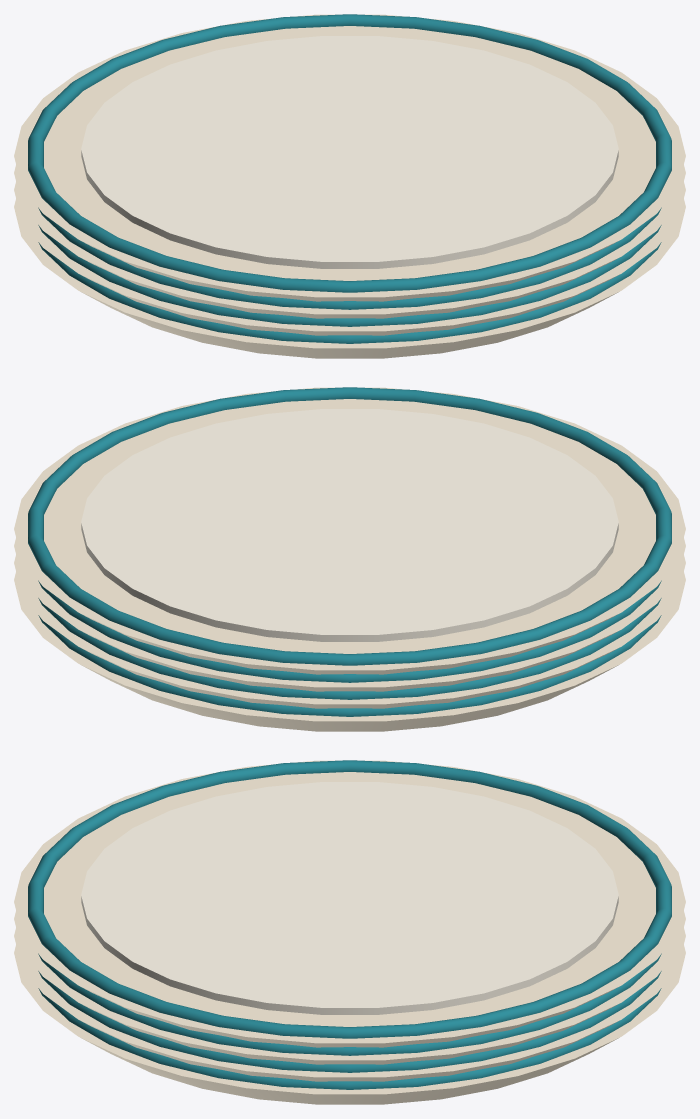
File: shared_tool_plate_stack.glb
3 views of the same model, one above another, from view 1: azimuth 30°, elevation 25°; view 2: azimuth 150°, elevation 25°; view 3: azimuth 270°, elevation 25° (orthographic).
Bounding box in the file's own units: 0.9945 × 0.1415 × 1.
